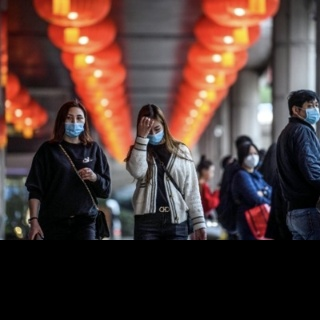with_mask: (62, 111, 86, 139), (300, 99, 320, 125), (144, 124, 164, 145), (244, 151, 260, 169)
